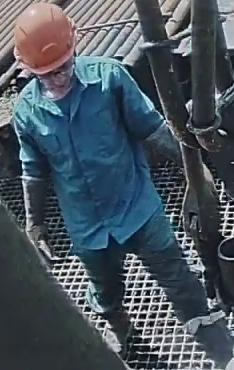gloves: (20, 201, 53, 272)
helmet: (13, 2, 76, 75)
vest: (19, 57, 161, 248)
